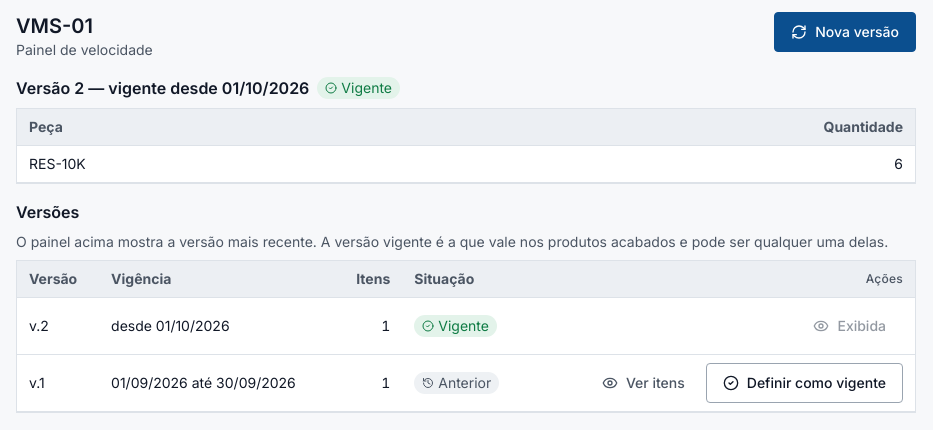
Test: DetalheEstruturaProduto › o painel mostra a versao mais recente e troca ao escolher outra
Check: the heading "Versão 2 — vigente desde 01/10/2026" is shown, box [16,76,309,100]
Click the button with aria-label "Ver itens da versão 1" at (643, 383), box [585,363,702,403]
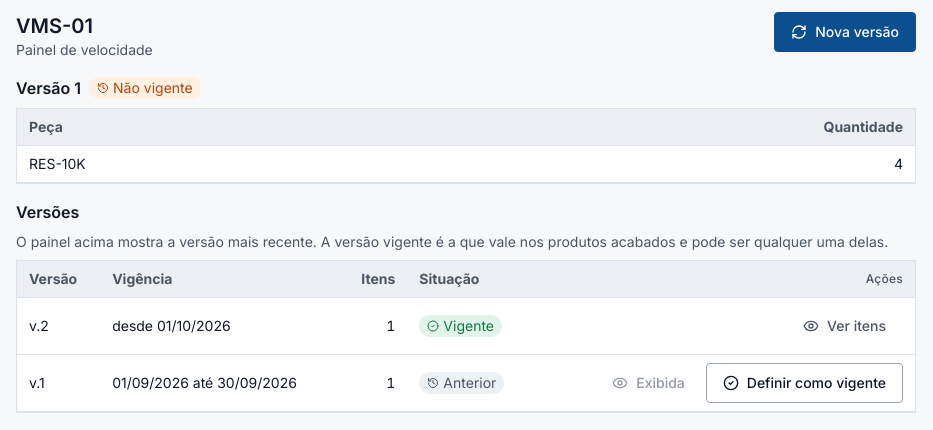
Check: the heading "Versão 1" is shown, box [16,76,81,100]
Check: the text "Não vigente" is shown, box [89,77,201,99]
